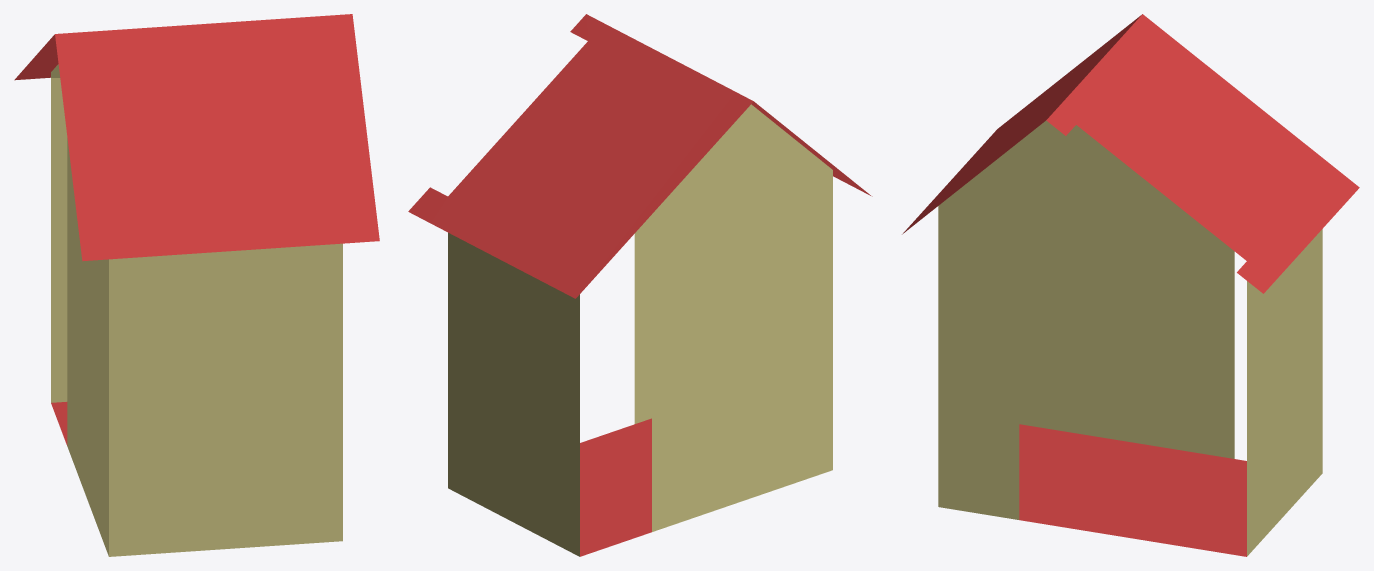
3 renders of one model, left to right at view 1: azimuth 30°, elevation 25°; view 2: azimuth 150°, elevation 25°; view 3: azimuth 270°, elevation 25°, orthographic. The views are drawn at different scales.
Bounding box in the file's own units: 6.79 × 7.97 × 8.
